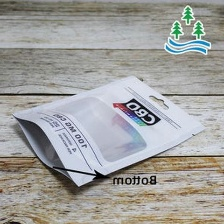snack: (6, 69, 212, 193)
